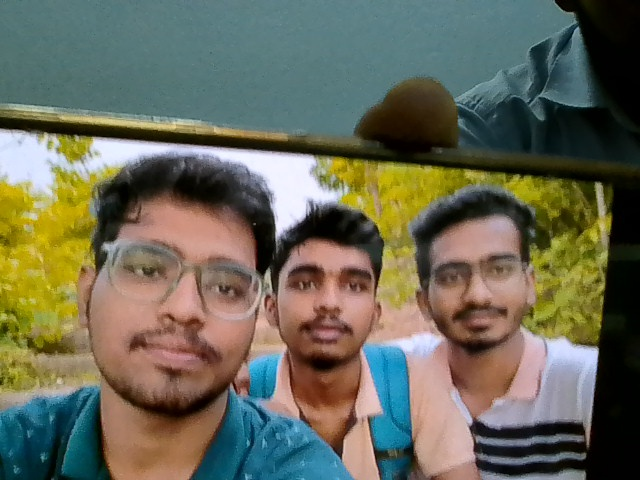real: (74, 138, 279, 428), (410, 178, 539, 361), (270, 209, 382, 368)
